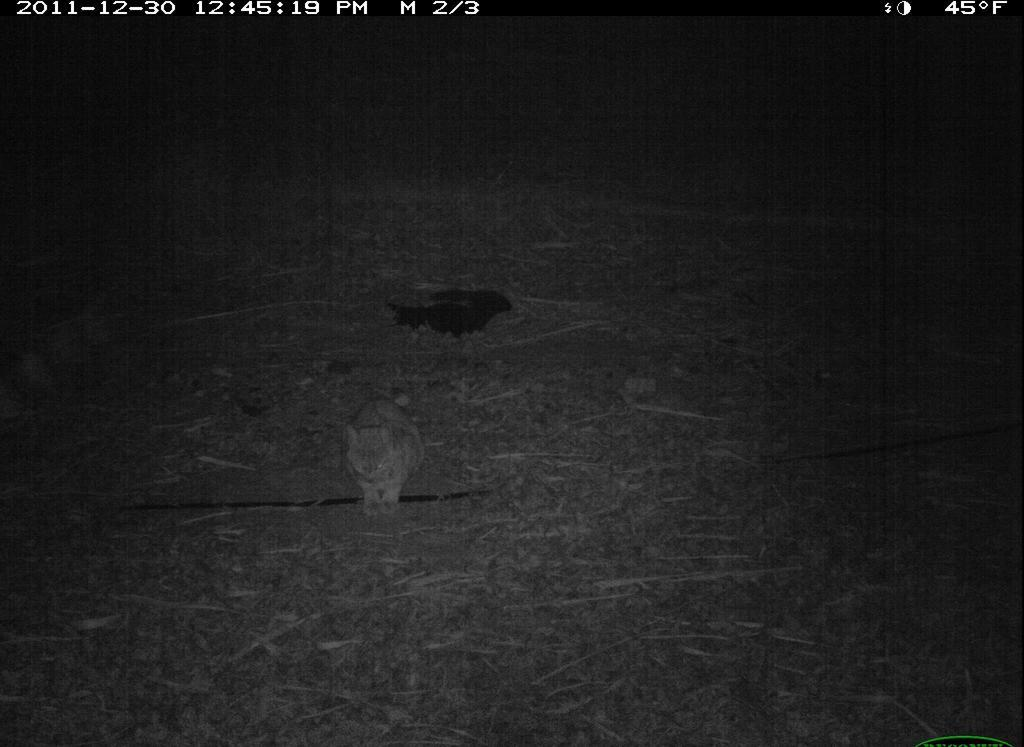bobcat: (333, 379, 438, 538)
